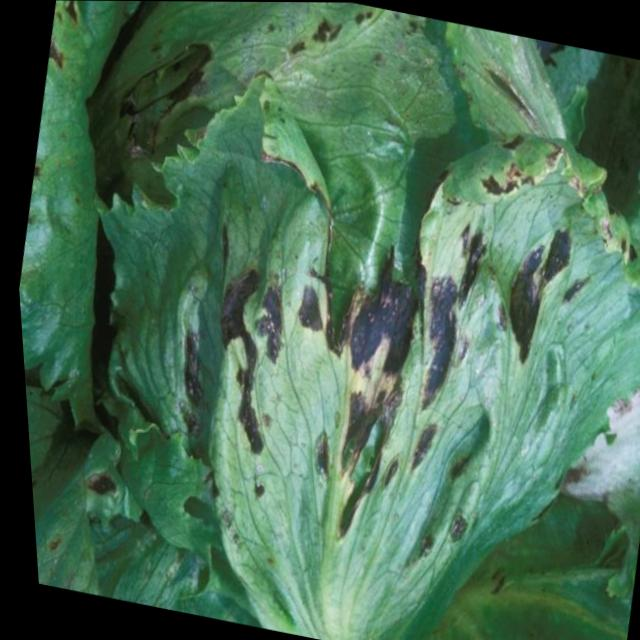Bad: (35, 1, 640, 640)
